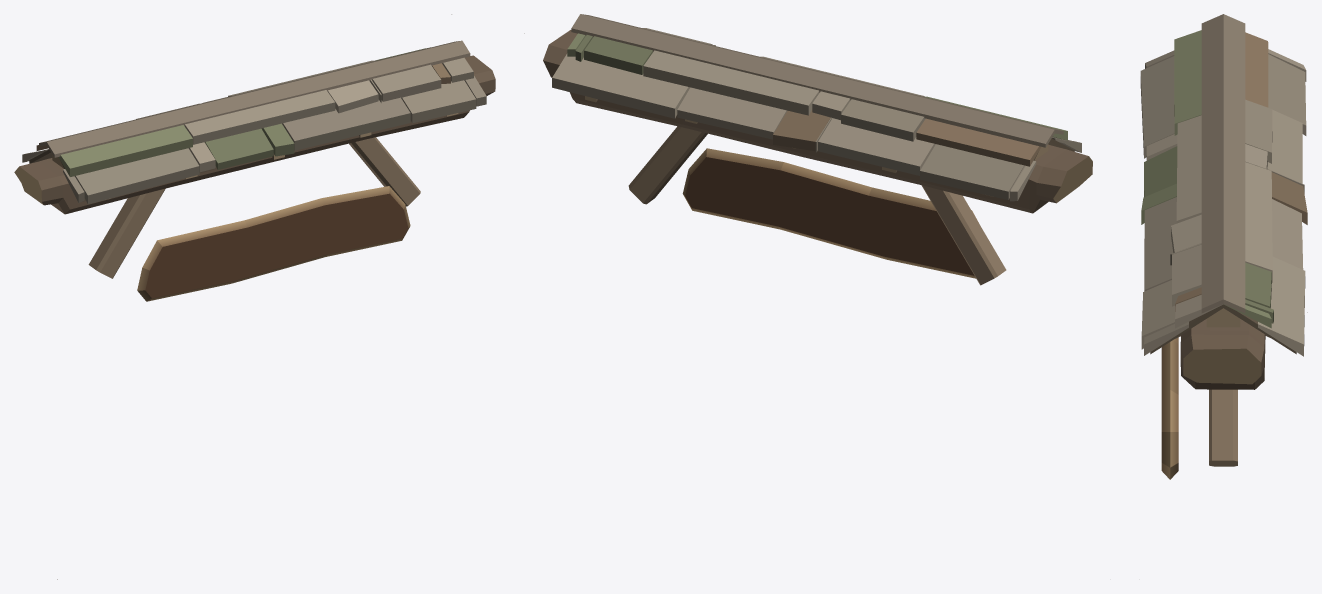
The model's file is CreekGateArch_wood.glb.
3 renders of one model, left to right at view 1: azimuth 30°, elevation 25°; view 2: azimuth 150°, elevation 25°; view 3: azimuth 270°, elevation 25°, orthographic. The views are drawn at different scales.
Parts seen in each view (by area): view 1: CreekGateArch_wood; view 2: CreekGateArch_wood; view 3: CreekGateArch_wood.
Boxes of the visible parts, box(x1,y1,x2,y2) form: CreekGateArch_wood: box(14, 14, 495, 579); CreekGateArch_wood: box(524, 14, 1092, 285); CreekGateArch_wood: box(1140, 14, 1307, 479).
Size of the model in its own units: 14.13 by 12.22 by 3.22.
